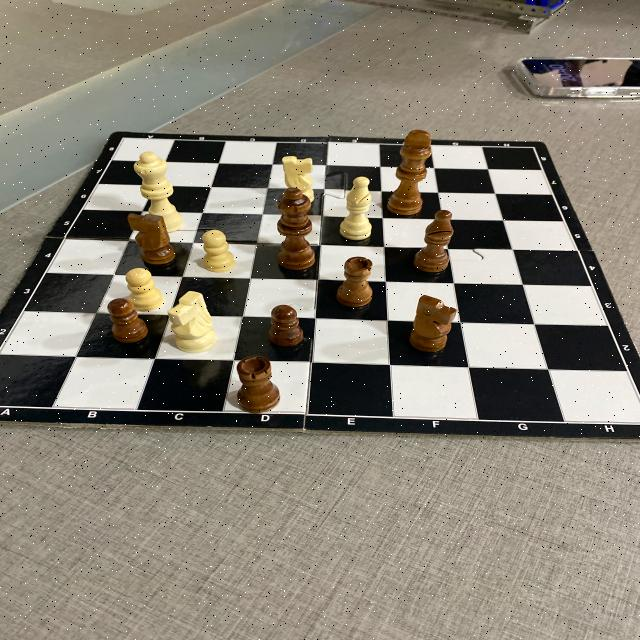Black-Bishop: (413, 210, 455, 272)
Black-King: (386, 129, 432, 216)
Black-Knight: (409, 294, 459, 354), (126, 213, 176, 265)
Black-Pawn: (107, 297, 149, 343), (267, 304, 306, 348)
Black-Queen: (277, 187, 313, 270)
Black-Rook: (236, 354, 281, 414), (336, 256, 374, 308)
White-Bishop: (339, 177, 373, 240)
White-Knight: (168, 290, 218, 354), (282, 154, 314, 204)
White-Pawn: (124, 268, 164, 314), (202, 230, 236, 274)
White-Queen: (134, 151, 184, 233)
